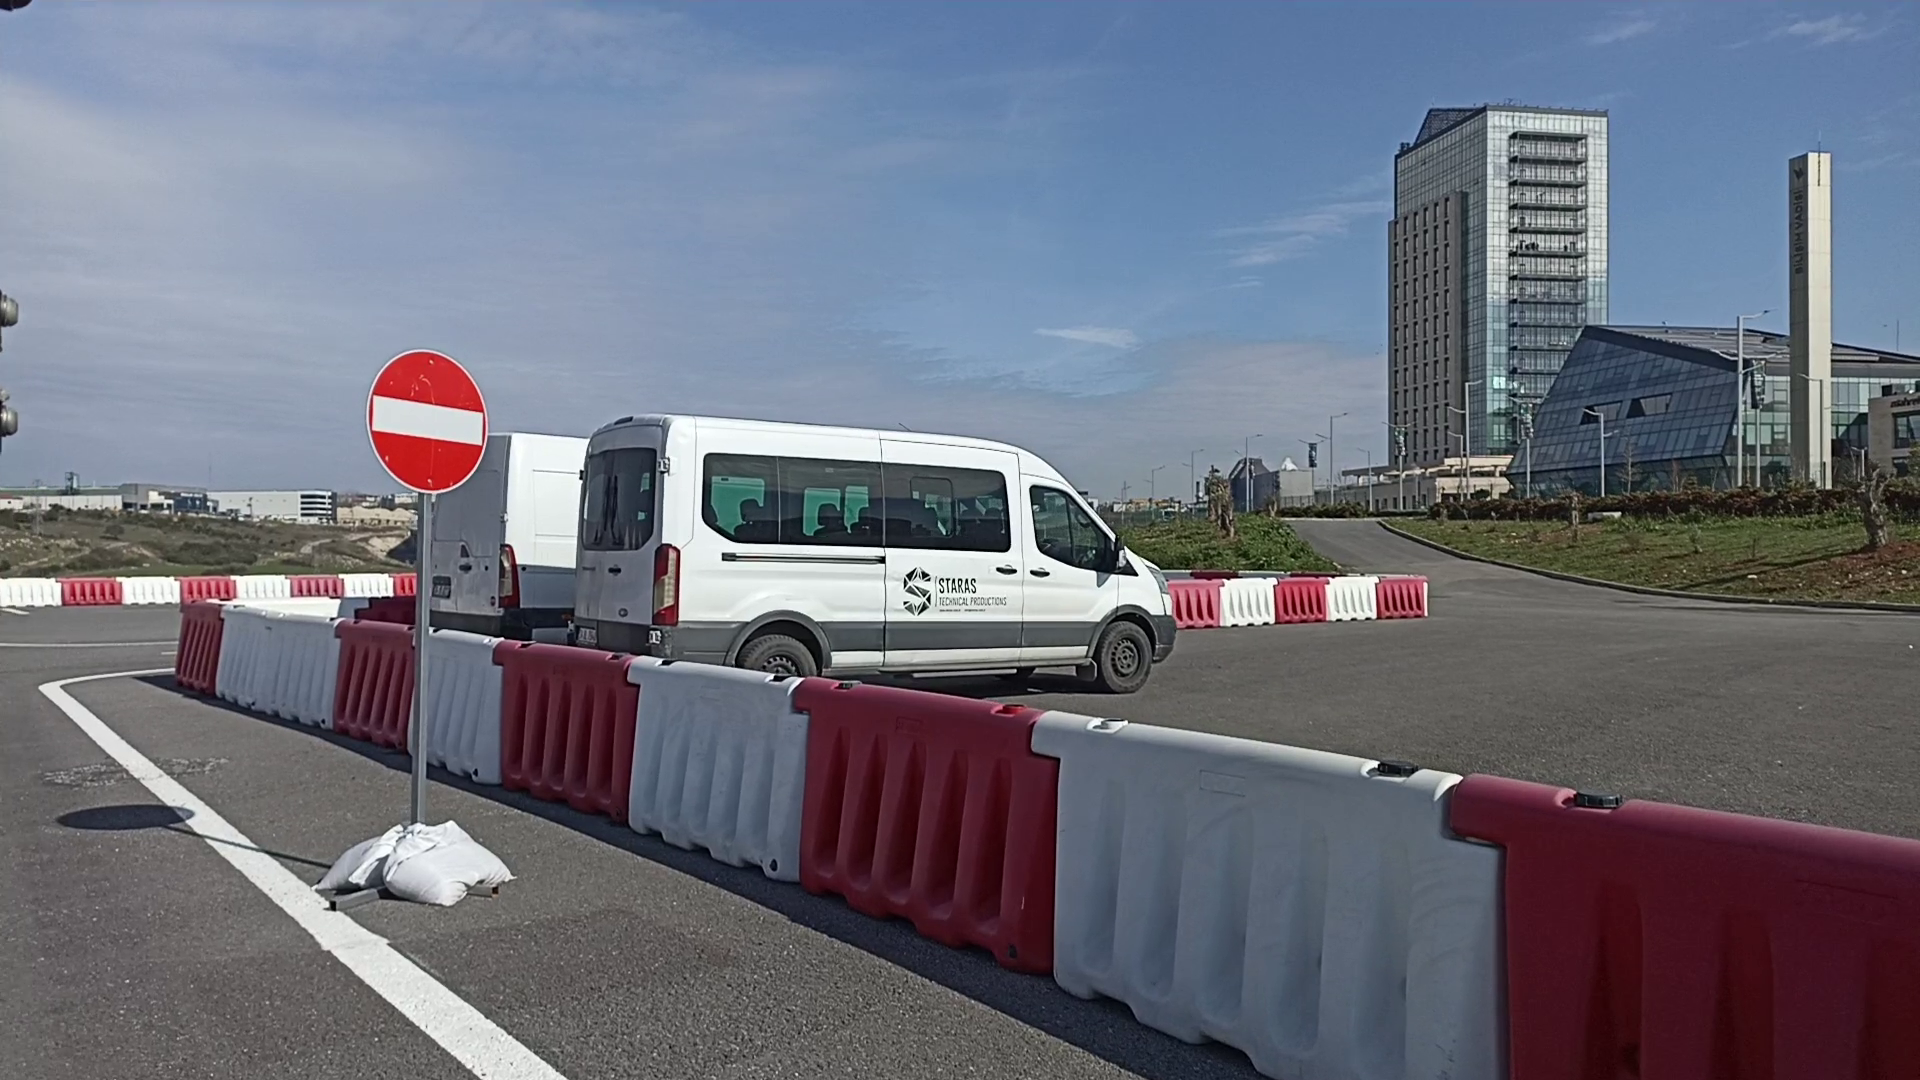noentryway: (363, 345, 491, 495)
